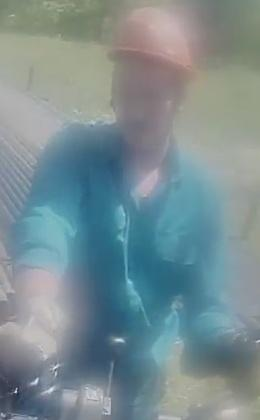gloves: (0, 280, 66, 380), (204, 326, 260, 390)
helmet: (104, 7, 198, 78)
vest: (33, 121, 190, 354)
